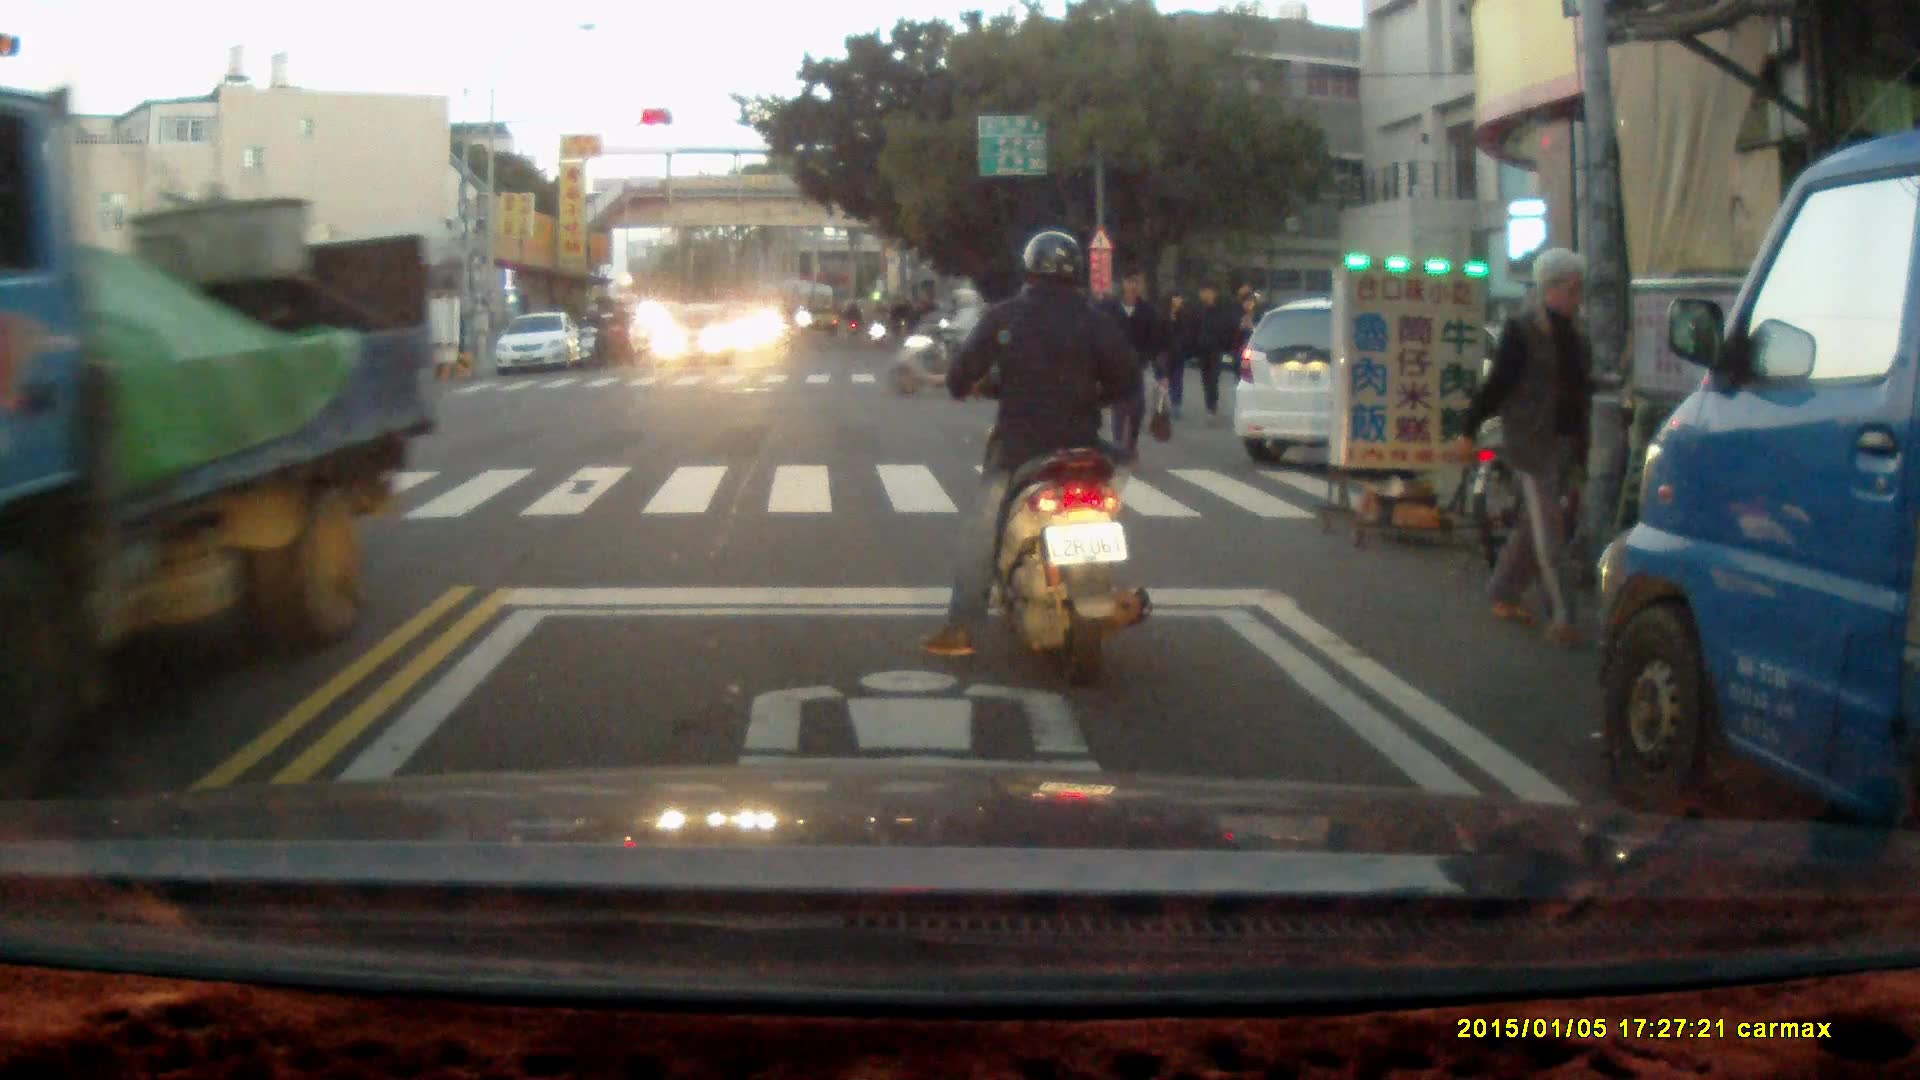pedestrian: (1470, 241, 1602, 642), (1090, 263, 1171, 474), (1187, 280, 1232, 426), (1155, 283, 1194, 425), (1231, 292, 1267, 403)
rider: (917, 229, 1151, 693), (889, 283, 996, 402), (577, 301, 612, 372), (601, 296, 636, 366), (861, 295, 889, 349)
vehicle: (1, 124, 440, 762), (1596, 120, 1920, 901), (1233, 303, 1533, 462), (493, 311, 584, 378), (657, 299, 744, 367)
